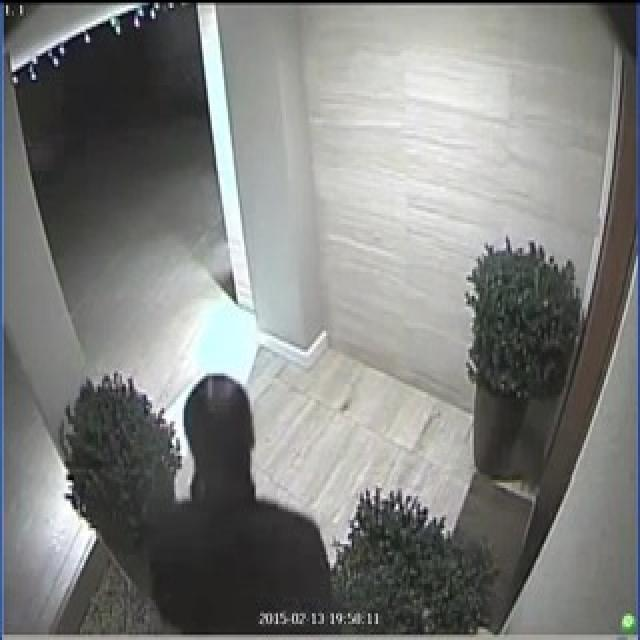thief: (139, 366, 317, 597)
